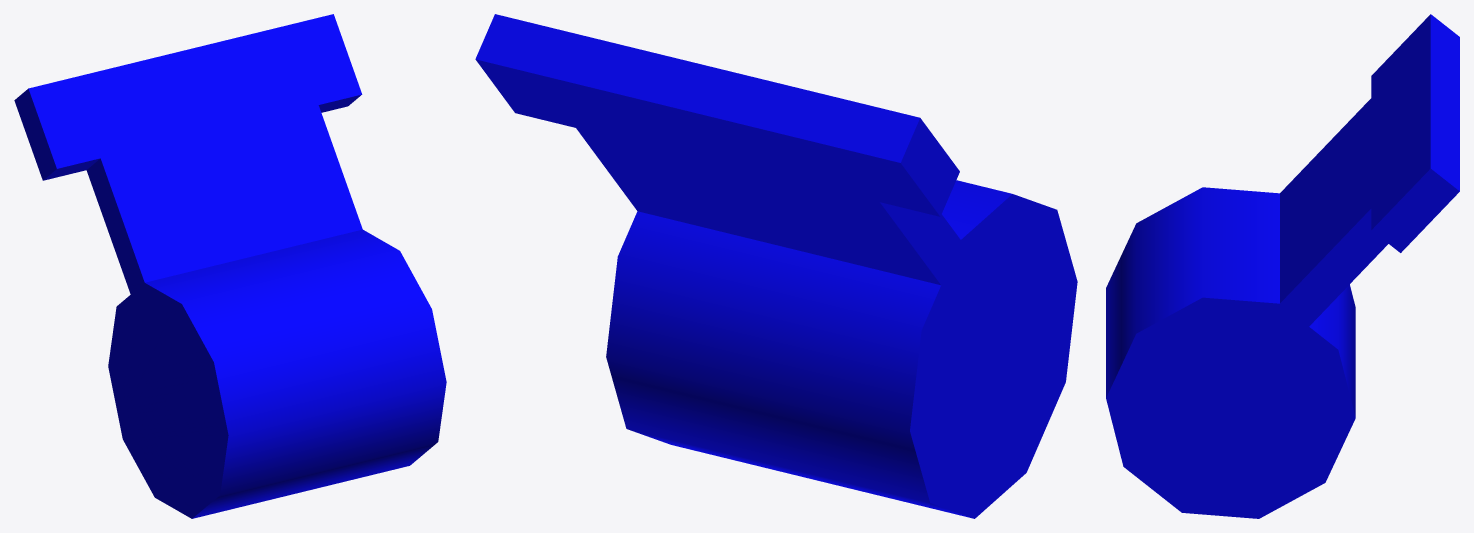
File: btn_tensao2.FBX
3 views of the same model, side by side, from view 1: azimuth 30°, elevation 25°; view 2: azimuth 150°, elevation 25°; view 3: azimuth 270°, elevation 25° (orthographic). The views are drawn at different scales.
Visible parts, largest first — view 1: obj_botao_vert2; view 2: obj_botao_vert2; view 3: obj_botao_vert2.
Part boxes in pixels (box(x1,y1,x2,y2)): obj_botao_vert2: box(14, 14, 446, 518); obj_botao_vert2: box(475, 14, 1077, 518); obj_botao_vert2: box(1106, 14, 1459, 518).
Bounding box in the file's own units: 0.8081 × 0.9085 × 0.7823.
